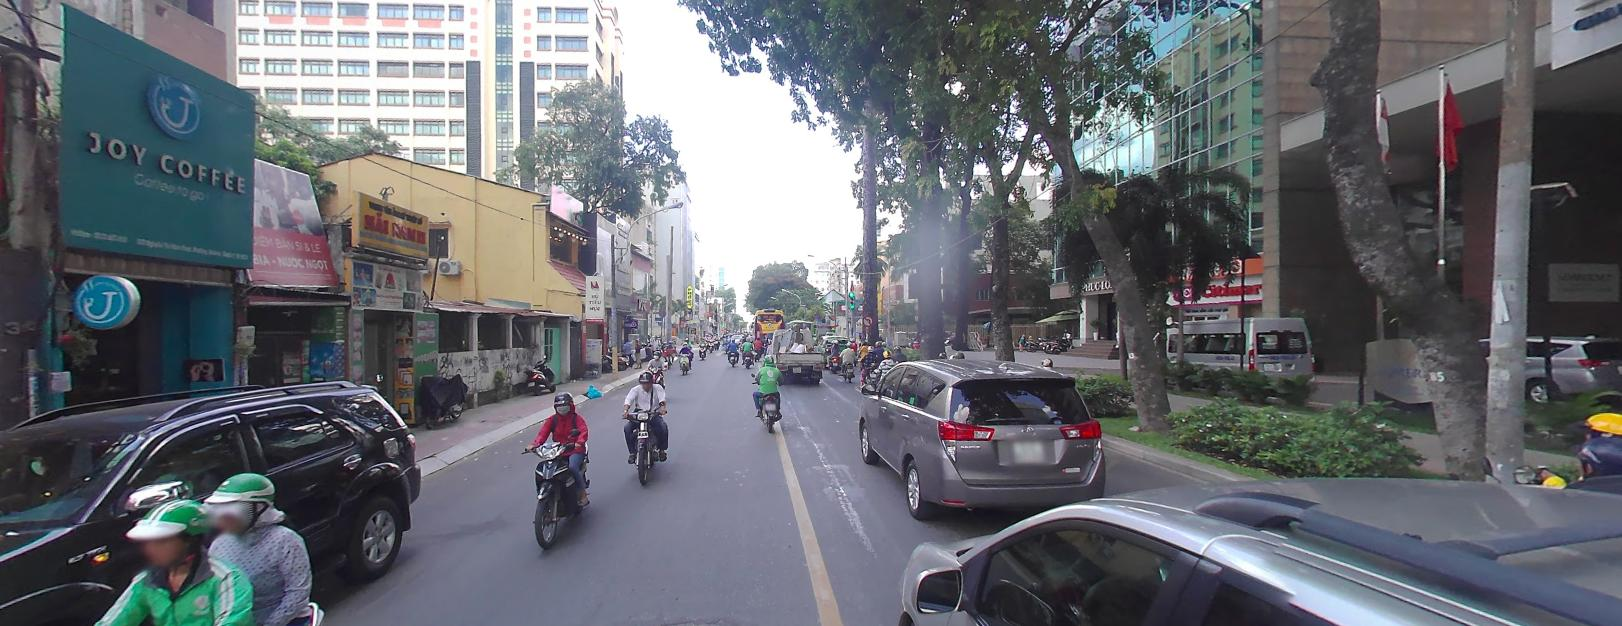Cam dung va do: (813, 311, 820, 319)
Cam re: (861, 312, 873, 325)
